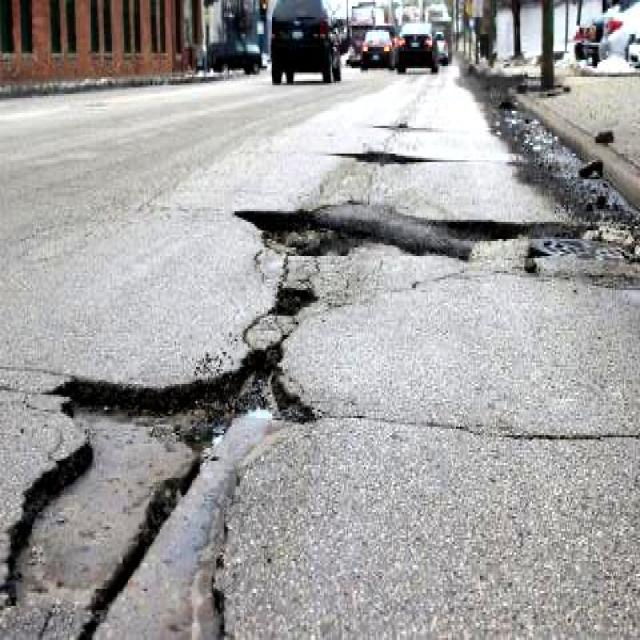pothole: (1, 339, 323, 638), (231, 203, 352, 260), (432, 211, 583, 243), (355, 200, 430, 262), (265, 281, 320, 318), (337, 147, 424, 164)
